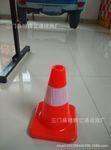cone_barrel: (28, 61, 81, 142)
